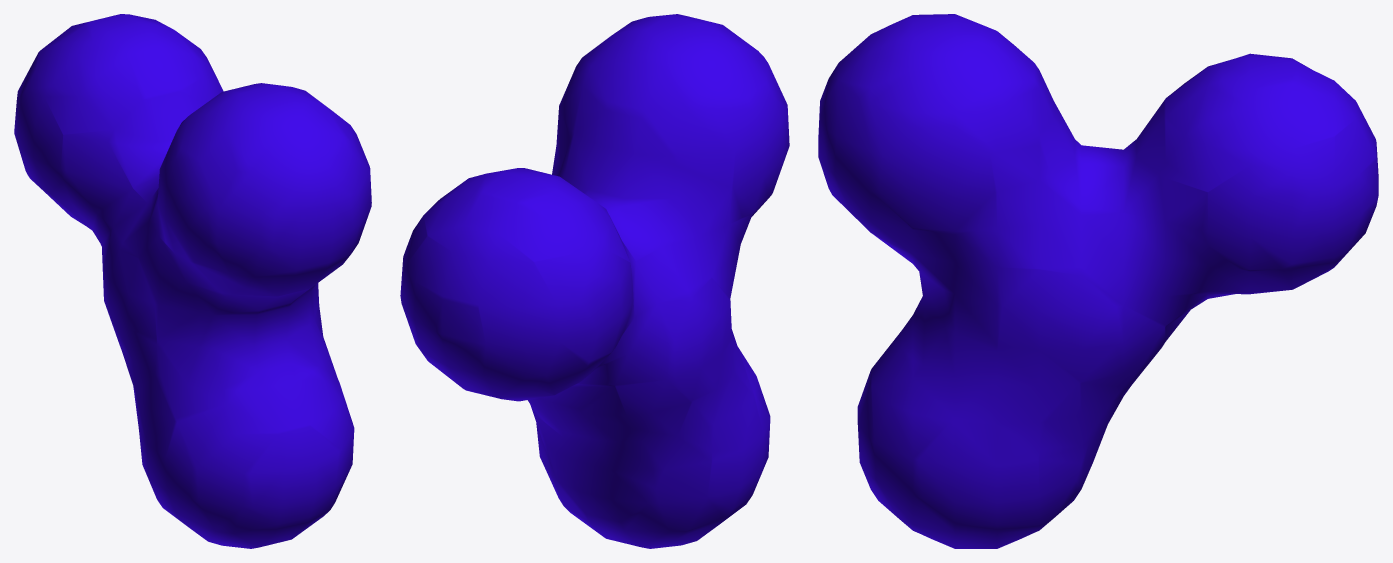
Rendered from metaball.glb.
3 views of the same model, side by side, from view 1: azimuth 30°, elevation 25°; view 2: azimuth 150°, elevation 25°; view 3: azimuth 270°, elevation 25° (orthographic). The views are drawn at different scales.
Visible parts, largest first — view 1: Mball.004; view 2: Mball.004; view 3: Mball.004.
Part boxes in pixels (left/top/right/bottom): Mball.004: left=14, top=14, right=371, bottom=548; Mball.004: left=400, top=14, right=789, bottom=548; Mball.004: left=818, top=14, right=1378, bottom=548.
Bounding box in the file's own units: 2.28 × 5.34 × 5.32.
